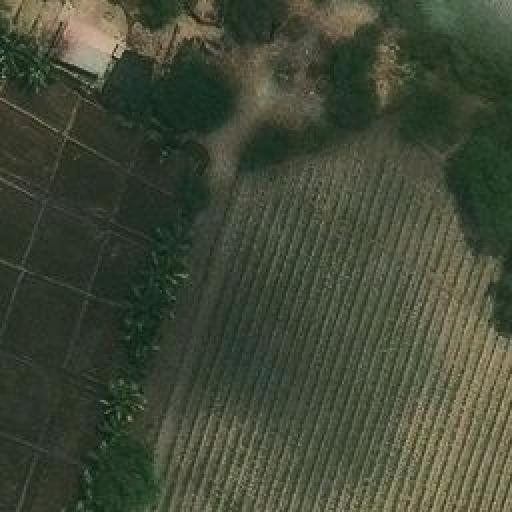manzanas: (47, 12, 129, 81)
